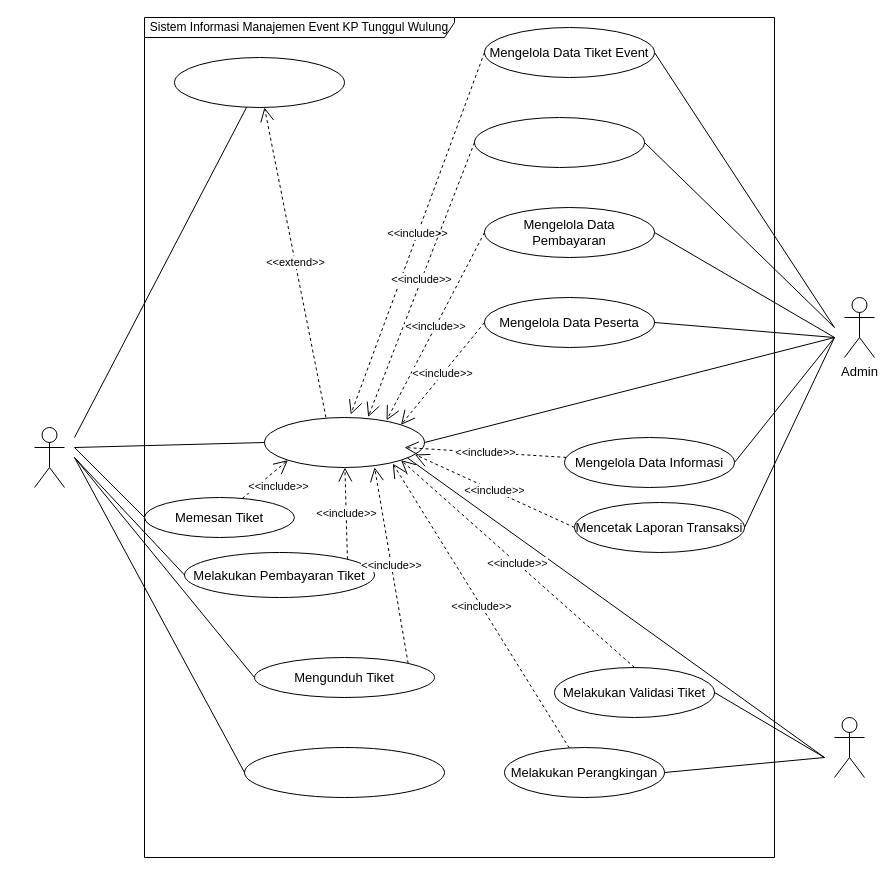
This 895x875 diagram has some shape labels left out. The box of each missing label's shape, as (x1, y1, x2, y2) in pixels:
Login: (264, 416, 424, 468)
Melihat Informasi/pengumuman: (244, 746, 444, 798)
Mengelola Data Pemesanan: (474, 116, 644, 168)
Panitia: (834, 716, 864, 778)
Pemancing: (34, 426, 64, 488)
Registrasi: (174, 56, 344, 108)
